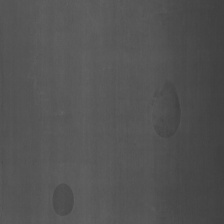oil_spot: (150, 72, 182, 143), (51, 176, 75, 217)
